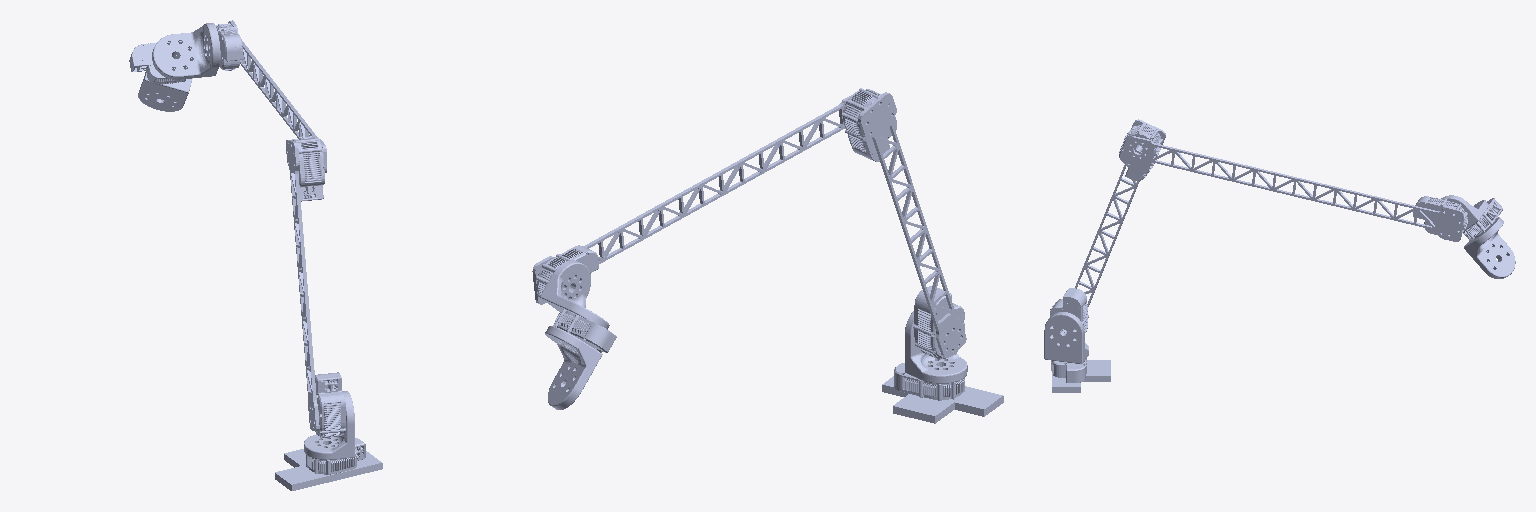
URDF robot description (Robot_assembly_gripper):
<?xml version="1.0"?>
<!-- This URDF was automatically created by SolidWorks to URDF Exporter! Originally created by [author] ([email redacted]) 
     Commit Version: 1.6.0-1-g15f4949  Build Version: 1.6.7594.29634
     For more information, please see http://wiki.ros.org/sw_urdf_exporter -->
<robot
  name="Robot_assembly_gripper">
  <link
    name="base_link">
    <inertial>
      <origin
        xyz="0.267857494098026 0.134011022004072 0.0993771018542492"
        rpy="0 0 0" />
      <mass
        value="0.334978549466239" />
      <inertia
        ixx="0.000241093147767613"
        ixy="-4.51194118929295E-06"
        ixz="-5.1404451476027E-08"
        iyy="0.000463470554587157"
        iyz="-7.37057463032119E-08"
        izz="0.000692752126308934" />
    </inertial>
    <visual>
      <origin
        xyz="0 0 0"
        rpy="0 0 0" />
      <geometry>
        <mesh
          filename="package://basic134/meshes/base_link.STL" />
      </geometry>
      <material
        name="">
        <color
          rgba="0.792156862745098 0.819607843137255 0.933333333333333 1" />
      </material>
    </visual>
    <collision>
      <origin
        xyz="0 0 0"
        rpy="0 0 0" />
      <geometry>
        <mesh
          filename="package://basic134/meshes/base_link.STL" />
      </geometry>
    </collision>
  </link>
  <link
    name="link1">
    <inertial>
      <origin
        xyz="-0.000215974699123545 -0.000898328756616884 0.0160772624857307"
        rpy="0 0 0" />
      <mass
        value="0.408820372172434" />
      <inertia
        ixx="0.000337442602052258"
        ixy="1.2647095595665E-06"
        ixz="-5.59754092842708E-05"
        iyy="0.000365908027791502"
        iyz="1.66540333089424E-05"
        izz="0.000363778134561444" />
    </inertial>
    <visual>
      <origin
        xyz="0 0 0"
        rpy="0 0 0" />
      <geometry>
        <mesh
          filename="package://basic134/meshes/link1.STL" />
      </geometry>
      <material
        name="">
        <color
          rgba="0.792156862745098 0.819607843137255 0.933333333333333 1" />
      </material>
    </visual>
    <collision>
      <origin
        xyz="0 0 0"
        rpy="0 0 0" />
      <geometry>
        <mesh
          filename="package://basic134/meshes/link1.STL" />
      </geometry>
    </collision>
  </link>
  <joint
    name="link1"
    type="revolute">
    <origin
      xyz="0.2607 0.12618 0.11049"
      rpy="0 0 -0.0" />
    <parent
      link="base_link" />
    <child
      link="link1" />
    <axis
      xyz="0 0 1" />
    <limit
      lower="0"
      upper="0"
      effort="0"
      velocity="0" />
  </joint>
  <link
    name="link2">
    <inertial>
      <origin
        xyz="-0.0092272068840536 -0.00086853648340196 0.0564152269571175"
        rpy="0 0 0" />
      <mass
        value="0.641026805757363" />
      <inertia
        ixx="0.000537404994155384"
        ixy="-6.60673300829398E-06"
        ixz="5.86491929414682E-05"
        iyy="0.00049633860154521"
        iyz="6.6066351399544E-06"
        izz="0.000453534999106879" />
    </inertial>
    <visual>
      <origin
        xyz="0 0 0"
        rpy="0 0 0" />
      <geometry>
        <mesh
          filename="package://basic134/meshes/link2.STL" />
      </geometry>
      <material
        name="">
        <color
          rgba="0.792156862745098 0.819607843137255 0.933333333333333 1" />
      </material>
    </visual>
    <collision>
      <origin
        xyz="0 0 0"
        rpy="0 0 0" />
      <geometry>
        <mesh
          filename="package://basic134/meshes/link2.STL" />
      </geometry>
    </collision>
  </link>
  <joint
    name="link2"
    type="fixed">
    <origin
      xyz="-0.0079917 0.00146 -0.011902"
      rpy="0 0 2.8538" />
    <parent
      link="link1" />
    <child
      link="link2" />
    <axis
      xyz="0 0 0" />
  </joint>
  <link
    name="link3">
    <inertial>
      <origin
        xyz="0.0152250000000007 -0.2406794491969 1.22124532708767E-15"
        rpy="0 0 0" />
      <mass
        value="0.0767858474939284" />
      <inertia
        ixx="0.00238516903039351"
        ixy="6.83650879640786E-18"
        ixz="5.42101086242752E-20"
        iyy="1.9180269485857E-05"
        iyz="-1.31023311073988E-07"
        izz="0.00236650479379691" />
    </inertial>
    <visual>
      <origin
        xyz="0 0 0"
        rpy="0 0 0" />
      <geometry>
        <mesh
          filename="package://basic134/meshes/link3.STL" />
      </geometry>
      <material
        name="">
        <color
          rgba="0.792156862745098 0.819607843137255 0.933333333333333 1" />
      </material>
    </visual>
    <collision>
      <origin
        xyz="0 0 0"
        rpy="0 0 0" />
      <geometry>
        <mesh
          filename="package://basic134/meshes/link3.STL" />
      </geometry>
    </collision>
  </link>
  <joint
    name="link3"
    type="revolute">
    <origin
      xyz="-7.7434E-05 -0.0008686 0.091902"
      rpy="-1.2203 0 0" />
    <parent
      link="link2" />
    <child
      link="link3" />
    <axis
      xyz="-1 0 0" />
    <limit
      lower="0"
      upper="0"
      effort="0"
      velocity="0" />
  </joint>
  <link
    name="link4">
    <inertial>
      <origin
        xyz="-0.0188514962883433 0.0938525862880993 -0.00122065965756527"
        rpy="0 0 0" />
      <mass
        value="0.308992204303723" />
      <inertia
        ixx="0.00258352619779536"
        ixy="-2.48879834899467E-07"
        ixz="-8.01819495875166E-08"
        iyy="0.000108937112554982"
        iyz="6.55543308158493E-06"
        izz="0.00249854049340643" />
    </inertial>
    <visual>
      <origin
        xyz="0 0 0"
        rpy="0 0 0" />
      <geometry>
        <mesh
          filename="package://basic134/meshes/link4.STL" />
      </geometry>
      <material
        name="">
        <color
          rgba="0.792156862745098 0.819607843137255 0.933333333333333 1" />
      </material>
    </visual>
    <collision>
      <origin
        xyz="0 0 0"
        rpy="0 0 0" />
      <geometry>
        <mesh
          filename="package://basic134/meshes/link4.STL" />
      </geometry>
    </collision>
  </link>
  <joint
    name="link4"
    type="fixed">
    <origin
      xyz="0.015225 -0.4775 0"
      rpy="0 0 0" />
    <parent
      link="link3" />
    <child
      link="link4" />
    <axis
      xyz="0 0 0" />
  </joint>
  <link
    name="link5">
    <inertial>
      <origin
        xyz="-0.194609657811397 -0.357306199284931 5.6621374255883E-15"
        rpy="0 0 0" />
      <mass
        value="0.0927282298042747" />
      <inertia
        ixx="0.00521684059122845"
        ixy="3.85696452532246E-18"
        ixz="-1.0842021724855E-19"
        iyy="2.3218055140328E-05"
        iyz="-1.9073169877161E-08"
        izz="0.00519424570842917" />
    </inertial>
    <visual>
      <origin
        xyz="0 0 0"
        rpy="0 0 0" />
      <geometry>
        <mesh
          filename="package://basic134/meshes/link5.STL" />
      </geometry>
      <material
        name="">
        <color
          rgba="0.792156862745098 0.819607843137255 0.933333333333333 1" />
      </material>
    </visual>
    <collision>
      <origin
        xyz="0 0 0"
        rpy="0 0 0" />
      <geometry>
        <mesh
          filename="package://basic134/meshes/link5.STL" />
      </geometry>
    </collision>
  </link>
  <joint
    name="link5"
    type="revolute">
    <origin
      xyz="0.14321 0.032 0"
      rpy="1.3414 0 0" />
    <parent
      link="link4" />
    <child
      link="link5" />
    <axis
      xyz="1 0 0" />
    <limit
      lower="0"
      upper="0"
      effort="0"
      velocity="0" />
  </joint>
  <link
    name="link6">
    <inertial>
      <origin
        xyz="0.0115000077719721 0.147438539818429 0.00112235859195009"
        rpy="0 0 0" />
      <mass
        value="0.252230038604757" />
      <inertia
        ixx="0.00535054298205387"
        ixy="-5.14033129248475E-08"
        ixz="-7.37078627787525E-08"
        iyy="7.97914651847604E-05"
        iyz="-4.59409130374559E-06"
        izz="0.00527865595451417" />
    </inertial>
    <visual>
      <origin
        xyz="0 0 0"
        rpy="0 0 0" />
      <geometry>
        <mesh
          filename="package://basic134/meshes/link6.STL" />
      </geometry>
      <material
        name="">
        <color
          rgba="0.792156862745098 0.819607843137255 0.933333333333333 1" />
      </material>
    </visual>
    <collision>
      <origin
        xyz="0 0 0"
        rpy="0 0 0" />
      <geometry>
        <mesh
          filename="package://basic134/meshes/link6.STL" />
      </geometry>
    </collision>
  </link>
  <joint
    name="link6"
    type="fixed">
    <origin
      xyz="-0.19461 -0.6775 0"
      rpy="0 0 0" />
    <parent
      link="link5" />
    <child
      link="link6" />
    <axis
      xyz="0 0 0" />
  </joint>
  <link
    name="link7">
    <inertial>
      <origin
        xyz="-0.000130288534892165 0.000920790745066791 0.0354068170810037"
        rpy="0 0 0" />
      <mass
        value="0.409613397509596" />
      <inertia
        ixx="0.000339928573716477"
        ixy="-6.68632878896225E-06"
        ixz="5.88061853623033E-05"
        iyy="0.000365197077247767"
        iyz="-8.02558084709898E-08"
        izz="0.000364462468927118" />
    </inertial>
    <visual>
      <origin
        xyz="0 0 0"
        rpy="0 0 0" />
      <geometry>
        <mesh
          filename="package://basic134/meshes/link7.STL" />
      </geometry>
      <material
        name="">
        <color
          rgba="0.792156862745098 0.819607843137255 0.933333333333333 1" />
      </material>
    </visual>
    <collision>
      <origin
        xyz="0 0 0"
        rpy="0 0 0" />
      <geometry>
        <mesh
          filename="package://basic134/meshes/link7.STL" />
      </geometry>
    </collision>
  </link>
  <joint
    name="link7"
    type="revolute">
    <origin
      xyz="0 0.032 0"
      rpy="1.5708 -0.70524 1.5708" />
    <parent
      link="link6" />
    <child
      link="link7" />
    <axis
      xyz="0 0 1" />
    <limit
      lower="0"
      upper="0"
      effort="0"
      velocity="0" />
  </joint>
  <link
    name="link8">
    <inertial>
      <origin
        xyz="-0.0235886510111271 0.000291555465911086 0.0501755583891659"
        rpy="0 0 0" />
      <mass
        value="0.569115198233791" />
      <inertia
        ixx="0.000473630955707207"
        ixy="-6.61262137680022E-06"
        ixz="5.88575893414097E-05"
        iyy="0.000449607313720566"
        iyz="-4.65527624133826E-06"
        izz="0.000421035879959335" />
    </inertial>
    <visual>
      <origin
        xyz="0 0 0"
        rpy="0 0 0" />
      <geometry>
        <mesh
          filename="package://basic134/meshes/link8.STL" />
      </geometry>
      <material
        name="">
        <color
          rgba="0.792156862745098 0.819607843137255 0.933333333333333 1" />
      </material>
    </visual>
    <collision>
      <origin
        xyz="0 0 0"
        rpy="0 0 0" />
      <geometry>
        <mesh
          filename="package://basic134/meshes/link8.STL" />
      </geometry>
    </collision>
  </link>
  <joint
    name="link8"
    type="fixed">
    <origin
      xyz="0.0080774 0.0008686 0.0073225"
      rpy="0 0 0" />
    <parent
      link="link7" />
    <child
      link="link8" />
    <axis
      xyz="0 0 0" />
  </joint>
  <link
    name="link9">
    <inertial>
      <origin
        xyz="-0.00013027915729813 0.000920791172653312 0.0803092442556865"
        rpy="0 0 0" />
      <mass
        value="0.409613320666264" />
      <inertia
        ixx="0.000339928492220774"
        ixy="-6.68637100854192E-06"
        ixz="5.88062087022453E-05"
        iyy="0.000365197131396319"
        iyz="-8.02731373553025E-08"
        izz="0.000364462456256996" />
    </inertial>
    <visual>
      <origin
        xyz="0 0 0"
        rpy="0 0 0" />
      <geometry>
        <mesh
          filename="package://basic134/meshes/link9.STL" />
      </geometry>
      <material
        name="">
        <color
          rgba="0.792156862745098 0.819607843137255 0.933333333333333 1" />
      </material>
    </visual>
    <collision>
      <origin
        xyz="0 0 0"
        rpy="0 0 0" />
      <geometry>
        <mesh
          filename="package://basic134/meshes/link9.STL" />
      </geometry>
    </collision>
  </link>
  <joint
    name="link9"
    type="revolute">
    <origin
      xyz="0 -0.0008686 0.091902"
      rpy="-1.5708 0.40899 1.5708" />
    <parent
      link="link8" />
    <child
      link="link9" />
    <axis
      xyz="0 0 1" />
    <limit
      lower="0"
      upper="0"
      effort="0"
      velocity="0" />
  </joint>
  <link
    name="link10">
    <inertial>
      <origin
        xyz="-0.00323354099177331 -0.00392762942961489 -0.00361444135571398"
        rpy="0 0 0" />
      <mass
        value="2.05264806100588" />
      <inertia
        ixx="0.00102424628669426"
        ixy="-3.22645731448597E-05"
        ixz="-5.92808550746498E-05"
        iyy="0.00116807049539813"
        iyz="3.76130461632427E-05"
        izz="0.0016508265788843" />
    </inertial>
    <visual>
      <origin
        xyz="0 0 0"
        rpy="0 0 0" />
      <geometry>
        <mesh
          filename="package://basic134/meshes/link10.STL" />
      </geometry>
      <material
        name="">
        <color
          rgba="0.752941176470588 0.752941176470588 0.752941176470588 1" />
      </material>
    </visual>
    <collision>
      <origin
        xyz="0 0 0"
        rpy="0 0 0" />
      <geometry>
        <mesh
          filename="package://basic134/meshes/link10.STL" />
      </geometry>
    </collision>
  </link>
  <joint
    name="link10"
    type="fixed">
    <origin
      xyz="-0.055 0 0.14413"
      rpy="3.1416 -1.5708 0" />
    <parent
      link="link9" />
    <child
      link="link10" />
    <axis
      xyz="0 0 0" />
  </joint>
</robot>

--- Facts derived from the render (not from the file) ---
The picture shows the robot from 3 angles, left to right: view 1: azimuth 30°, elevation 25°; view 2: azimuth 150°, elevation 25°; view 3: azimuth 270°, elevation 25°; orthographic projection.
Model Robot_assembly_gripper with 11 links and 10 joints (5 revolute, 5 fixed), rooted at base_link, posed every joint at zero.
Visible links, largest first — view 1: link7, base_link, link3, link2, link4, link6, link9, link5, link8, link1; view 2: link3, link5, base_link, link2, link9, link4, link6, link8, link7; view 3: link6, link2, link9, base_link, link3, link4, link8, link1, link5.
Boxes of the visible links, x1=… form: link7: x1=152, y1=23, x2=220, y2=79; base_link: x1=275, y1=438, x2=382, y2=490; link3: x1=286, y1=140, x2=319, y2=430; link2: x1=304, y1=372, x2=353, y2=452; link4: x1=286, y1=136, x2=324, y2=430; link6: x1=215, y1=23, x2=326, y2=169; link9: x1=138, y1=72, x2=192, y2=111; link5: x1=228, y1=20, x2=326, y2=172; link8: x1=129, y1=24, x2=220, y2=84; link1: x1=305, y1=398, x2=354, y2=459; link3: x1=858, y1=92, x2=966, y2=357; link5: x1=533, y1=95, x2=851, y2=304; base_link: x1=882, y1=363, x2=1003, y2=423; link2: x1=905, y1=285, x2=966, y2=383; link9: x1=545, y1=326, x2=602, y2=409; link4: x1=842, y1=88, x2=959, y2=350; link6: x1=532, y1=101, x2=844, y2=300; link8: x1=541, y1=261, x2=616, y2=352; link7: x1=540, y1=260, x2=609, y2=329; link6: x1=1127, y1=136, x2=1467, y2=241; link2: x1=1045, y1=288, x2=1088, y2=363; link9: x1=1464, y1=217, x2=1515, y2=278; base_link: x1=1051, y1=359, x2=1110, y2=392; link3: x1=1075, y1=119, x2=1165, y2=306; link4: x1=1086, y1=123, x2=1164, y2=273; link8: x1=1442, y1=196, x2=1502, y2=240; link1: x1=1044, y1=314, x2=1081, y2=363; link5: x1=1129, y1=136, x2=1463, y2=239.
Bounding box of the posed robot: 0.3551 × 0.9385 × 0.565 m (x, y, z).
10 mesh visuals loaded from 11 distinct referenced files (10 binary STL); not drawn: 1 (file found but could not be loaded).
